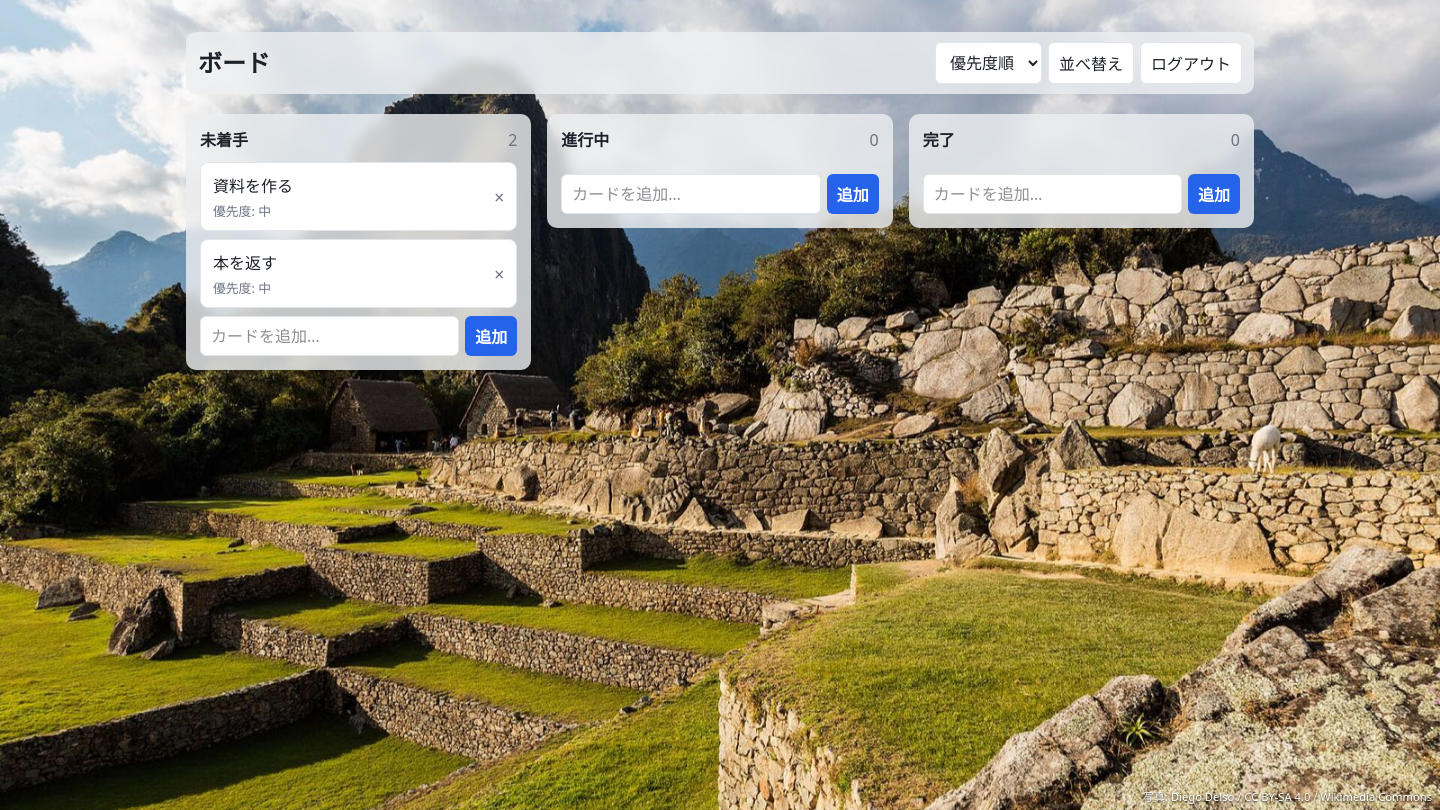
Scenario: ログイン › ログアウトするとログイン画面に戻る
Expected: the text "資料を作る" is shown, [213,175,293,197]
Click the button "ログアウト" at (1191, 63), box [1140,42,1242,84]
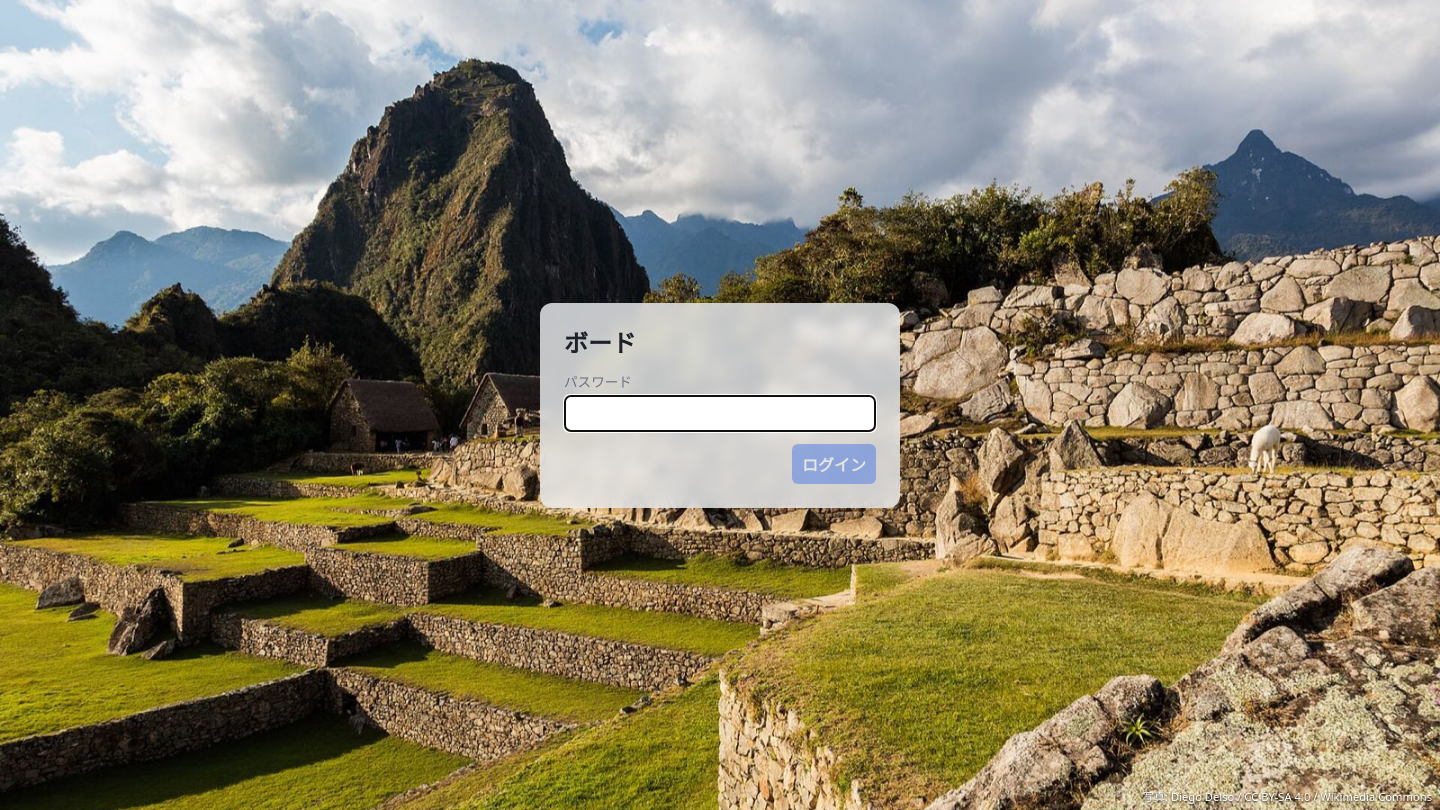
Expected: the password field labelled "パスワード" is shown, [564,394,876,432]
